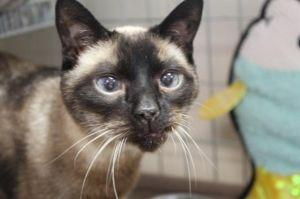siamese: (51, 1, 205, 154)
